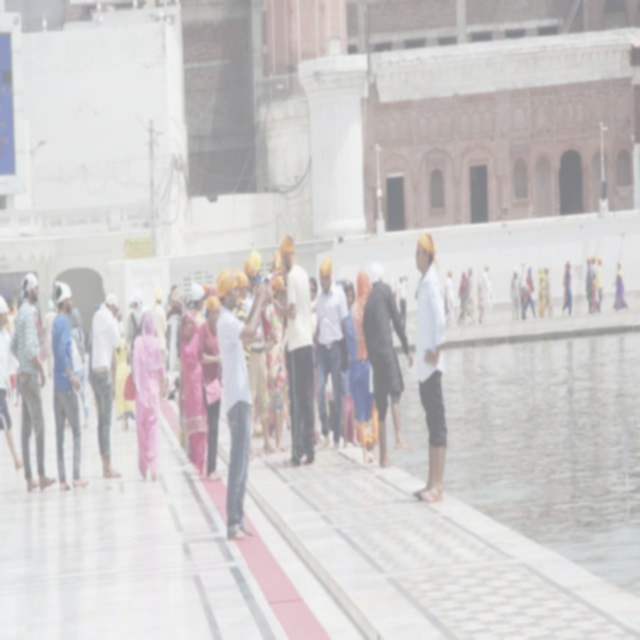pessoa: (216, 264, 270, 543), (268, 228, 316, 469), (361, 260, 416, 470), (7, 267, 58, 492), (409, 228, 448, 504), (235, 247, 282, 457), (310, 252, 352, 452), (51, 282, 90, 494), (86, 290, 125, 480), (260, 244, 294, 454), (346, 268, 380, 464), (130, 308, 166, 483), (175, 305, 208, 479), (196, 293, 224, 483), (0, 292, 25, 475), (340, 277, 362, 452), (232, 270, 264, 374), (64, 306, 90, 430), (110, 320, 136, 433), (165, 280, 187, 396), (308, 274, 322, 446), (151, 286, 169, 402), (111, 293, 147, 351), (40, 298, 60, 382), (187, 277, 220, 327), (6, 304, 21, 408), (32, 306, 46, 388), (610, 258, 630, 314), (480, 260, 495, 326), (396, 270, 410, 334), (443, 268, 457, 330), (516, 260, 530, 320), (522, 265, 536, 320), (510, 266, 522, 326), (461, 265, 474, 320), (543, 264, 554, 319), (560, 260, 570, 318), (584, 254, 593, 314), (595, 257, 604, 315), (388, 273, 397, 331), (589, 255, 598, 312), (412, 270, 427, 304), (87, 318, 93, 398), (458, 269, 468, 311), (476, 268, 483, 326), (442, 284, 450, 326), (562, 258, 568, 306), (538, 262, 546, 276), (92, 304, 100, 312)
